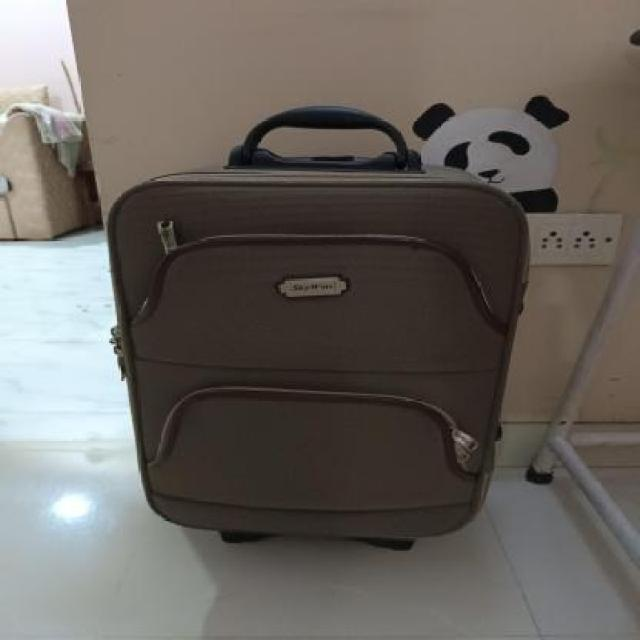backpack: (95, 94, 537, 558)
